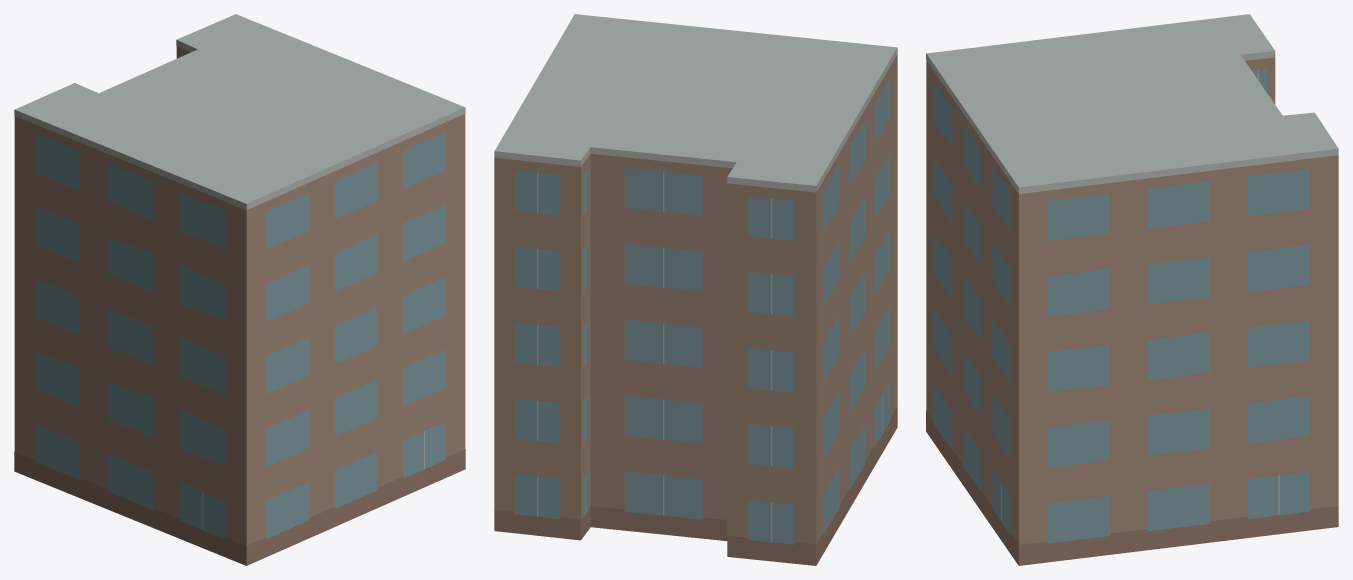
Rendered from survey-upis-33037841.glb.
3 renders of one model, left to right at view 1: azimuth 30°, elevation 25°; view 2: azimuth 150°, elevation 25°; view 3: azimuth 270°, elevation 25°, orthographic. The views are drawn at different scales.
Parts seen in each view (by area): view 1: survey-upis-33037841.tmp; view 2: survey-upis-33037841.tmp; view 3: survey-upis-33037841.tmp.
Part boxes in pixels (<box>): survey-upis-33037841.tmp: <box>14,14,465,565</box>; survey-upis-33037841.tmp: <box>494,14,897,565</box>; survey-upis-33037841.tmp: <box>926,14,1338,565</box>.
Bounding box in the file's own units: 13.99 × 14.2 × 14.04.
